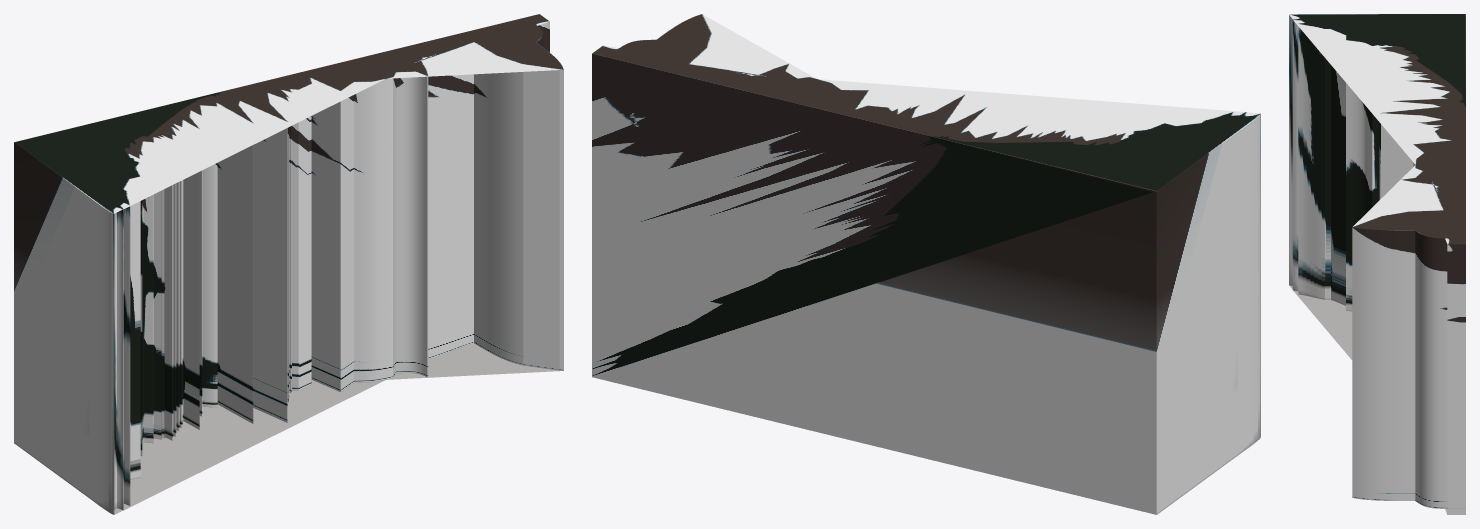
The picture shows the model from 3 angles, left to right: view 1: azimuth 30°, elevation 25°; view 2: azimuth 150°, elevation 25°; view 3: azimuth 270°, elevation 25°; orthographic projection. The views are drawn at different scales.
Visible parts, largest first — view 1: Shape1; view 2: Shape1; view 3: Shape1.
Boxes of the visible parts, <box> form: Shape1: <box>14,14,563,514</box>; Shape1: <box>592,14,1260,514</box>; Shape1: <box>1289,14,1465,514</box>.
Size of the model in its own units: 45.66 by 25 by 14.82.
